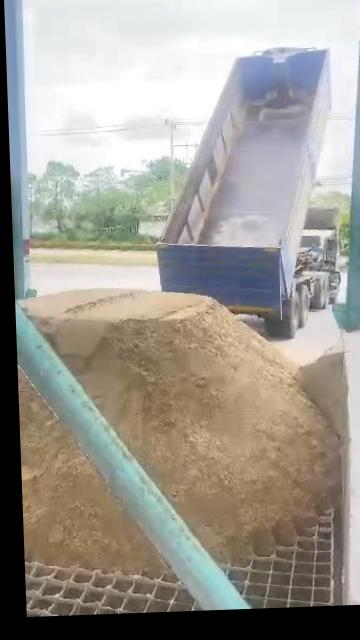sand: (27, 291, 339, 561), (19, 373, 161, 572)
